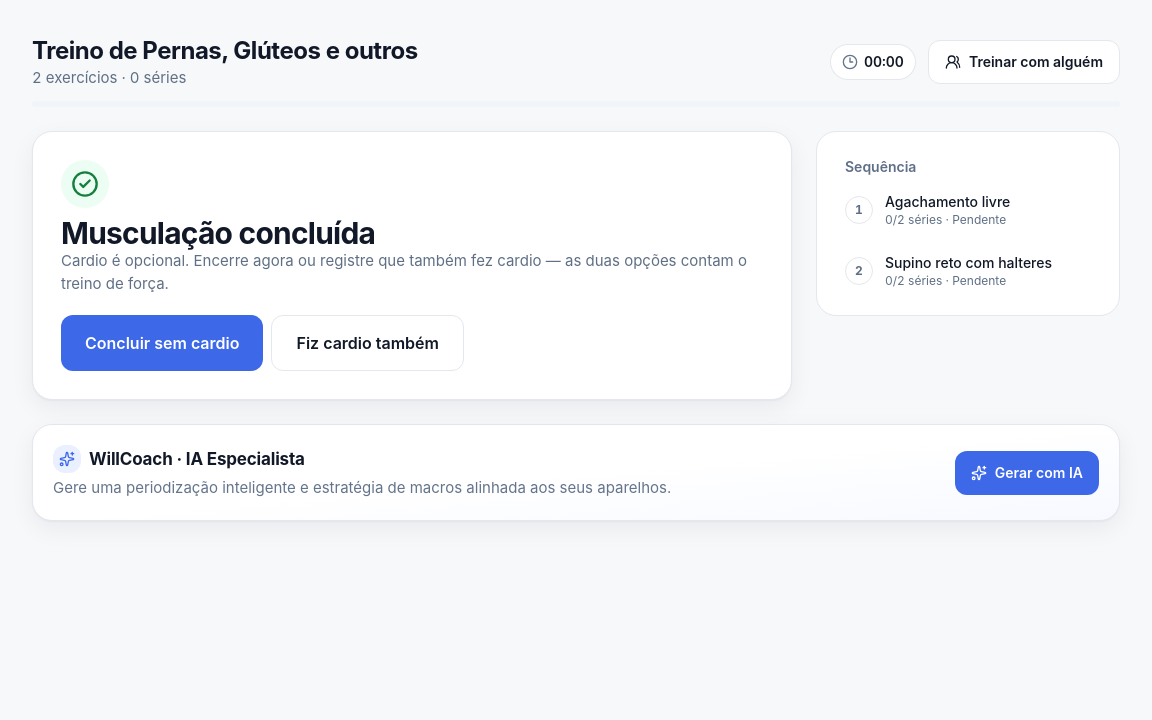
Test case: WorkoutPageClient › offers a valid completion choice after the final strength exercise
Click the button "Concluir sem cardio". click: (162, 344)
box: [61,316,264,372]
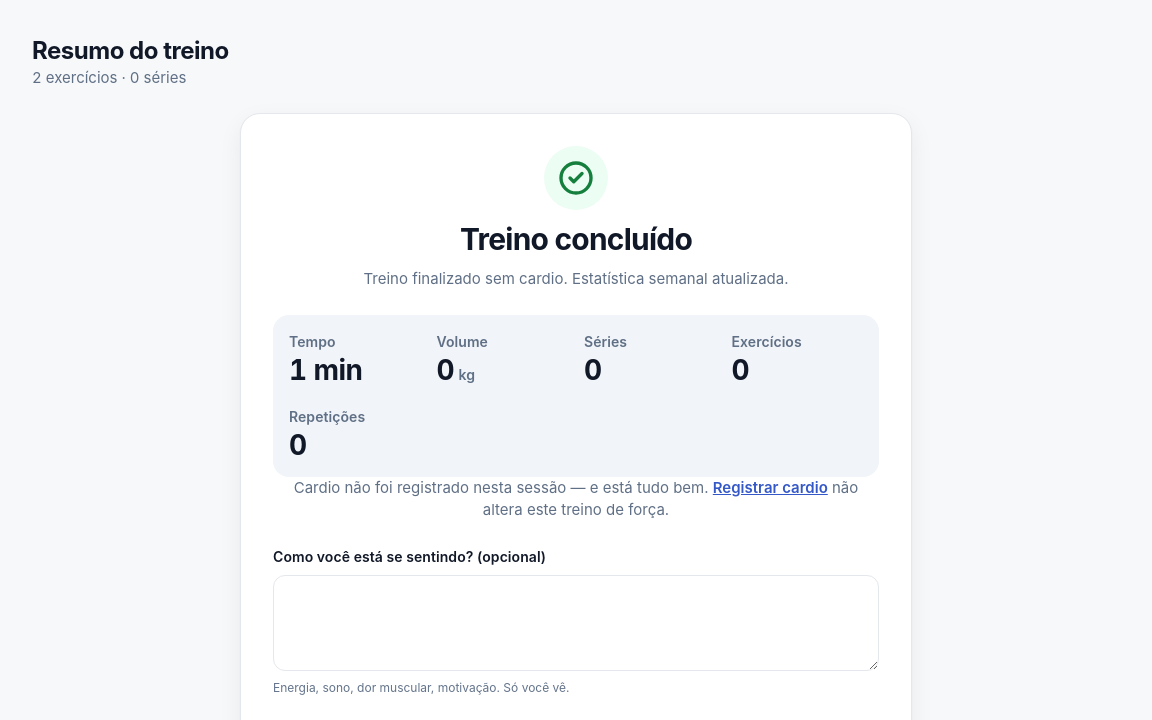
expect the heading "Treino concluído" is shown: met, box [460,222,692,256]
expect the text "Treino finalizado sem cardio. Estatística semanal atualizada." is shown: met, box [364,268,788,291]
